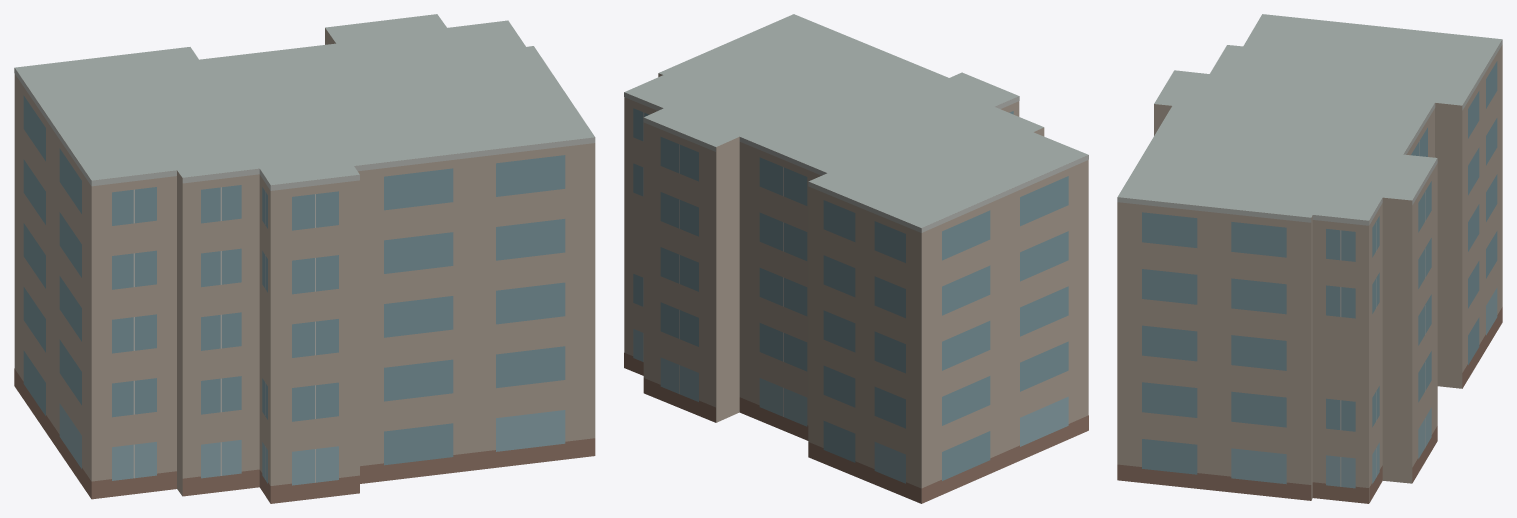
Rendered from survey-upis-32704544.glb.
3 renders of one model, left to right at view 1: azimuth 30°, elevation 25°; view 2: azimuth 150°, elevation 25°; view 3: azimuth 270°, elevation 25°, orthographic. The views are drawn at different scales.
Parts seen in each view (by area): view 1: survey-upis-32704544.tmp; view 2: survey-upis-32704544.tmp; view 3: survey-upis-32704544.tmp.
Boxes of the visible parts, <box> form: survey-upis-32704544.tmp: <box>14,14,595,503</box>; survey-upis-32704544.tmp: <box>624,14,1088,503</box>; survey-upis-32704544.tmp: <box>1117,14,1502,503</box>.
Size of the model in its own units: 21.38 by 13.65 by 16.83.
